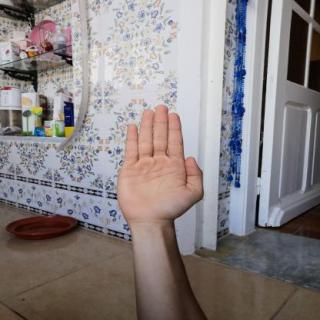SEEN: (109, 100, 209, 227)
